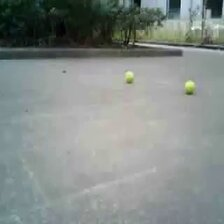tennis: (184, 81, 194, 94), (124, 71, 134, 81)
